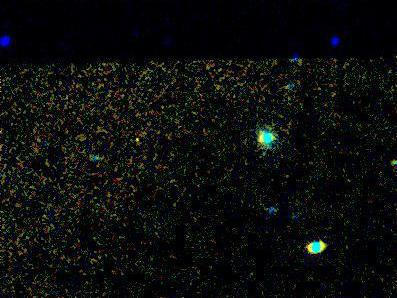star: (124, 127, 154, 157)
